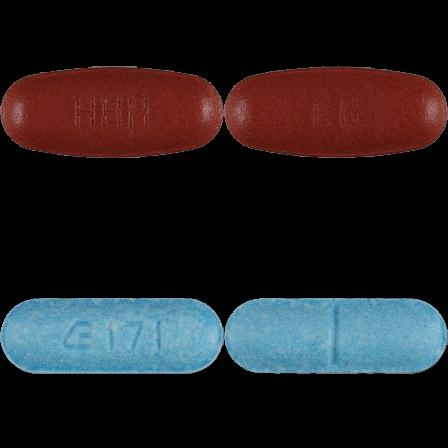54868-4428: (0, 0, 224, 224)
